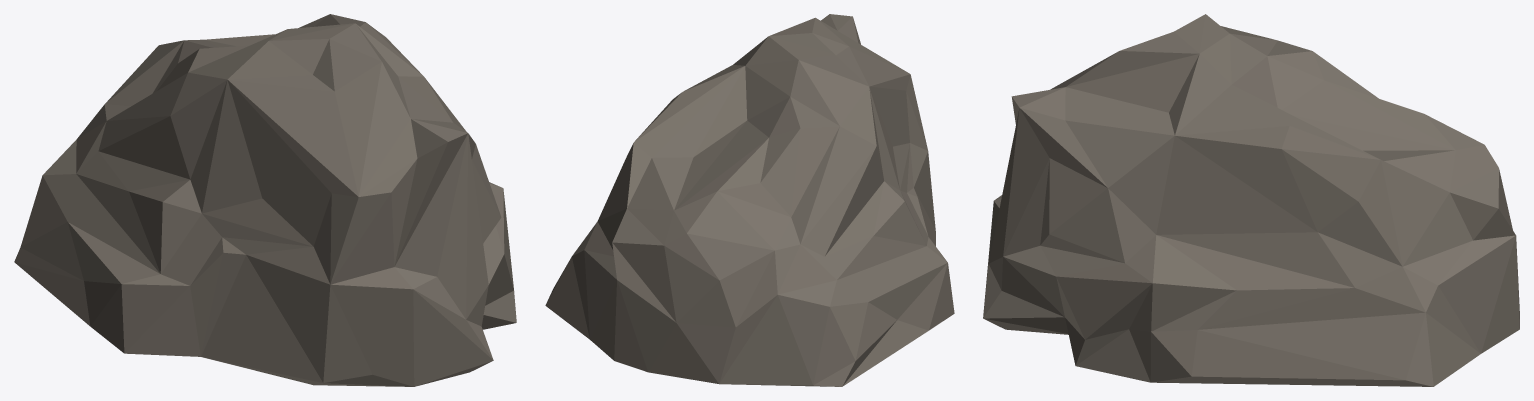
Rendered from SM_Env_Rock_Huge_04.fbx.glb.
3 renders of one model, left to right at view 1: azimuth 30°, elevation 25°; view 2: azimuth 150°, elevation 25°; view 3: azimuth 270°, elevation 25°, orthographic. The views are drawn at different scales.
Parts seen in each view (by area): view 1: node_id4; view 2: node_id4; view 3: node_id4.
Part boxes in pixels (x1,y1,x2,y2): node_id4: (14, 14, 516, 386); node_id4: (545, 14, 954, 386); node_id4: (983, 14, 1519, 386).
Bounding box in the file's own units: 0.512 × 0.3648 × 0.6451.
1 material, 1 textured.
